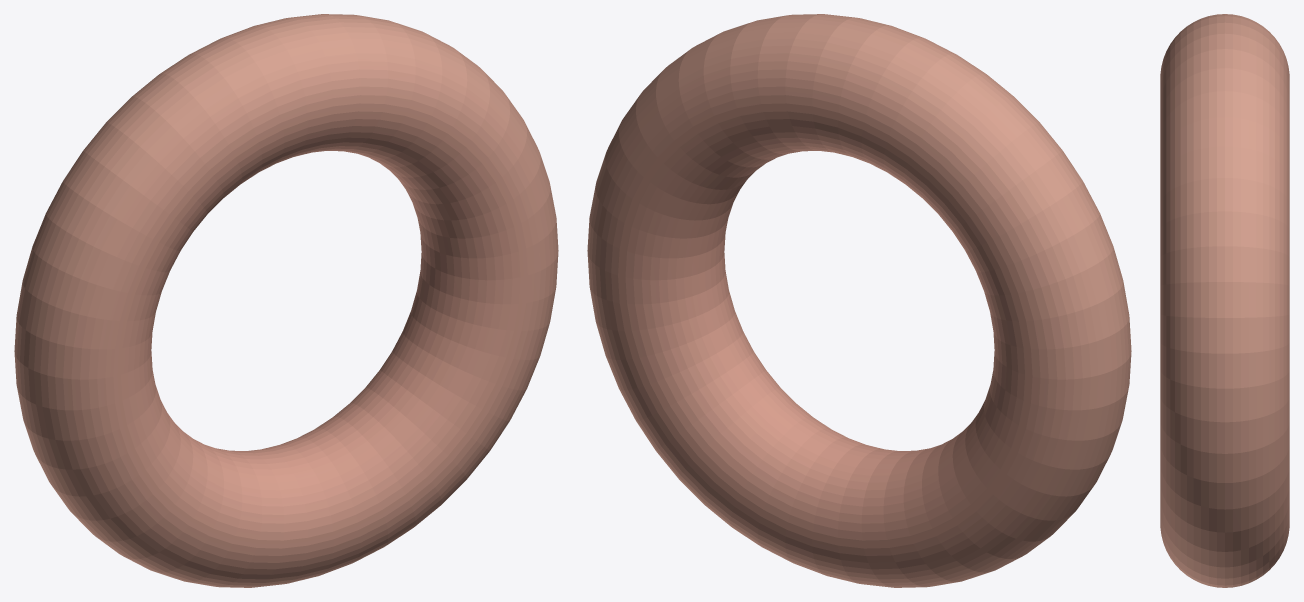
3 renders of one model, left to right at view 1: azimuth 30°, elevation 25°; view 2: azimuth 150°, elevation 25°; view 3: azimuth 270°, elevation 25°, orthographic. The views are drawn at different scales.
Visible parts, largest first — view 1: world; view 2: world; view 3: world.
Boxes of the visible parts, <box> form: world: <box>14,14,558,587</box>; world: <box>587,14,1131,587</box>; world: <box>1160,14,1289,587</box>.
Size of the model in its own units: 30.13 by 30.07 by 6.79.
